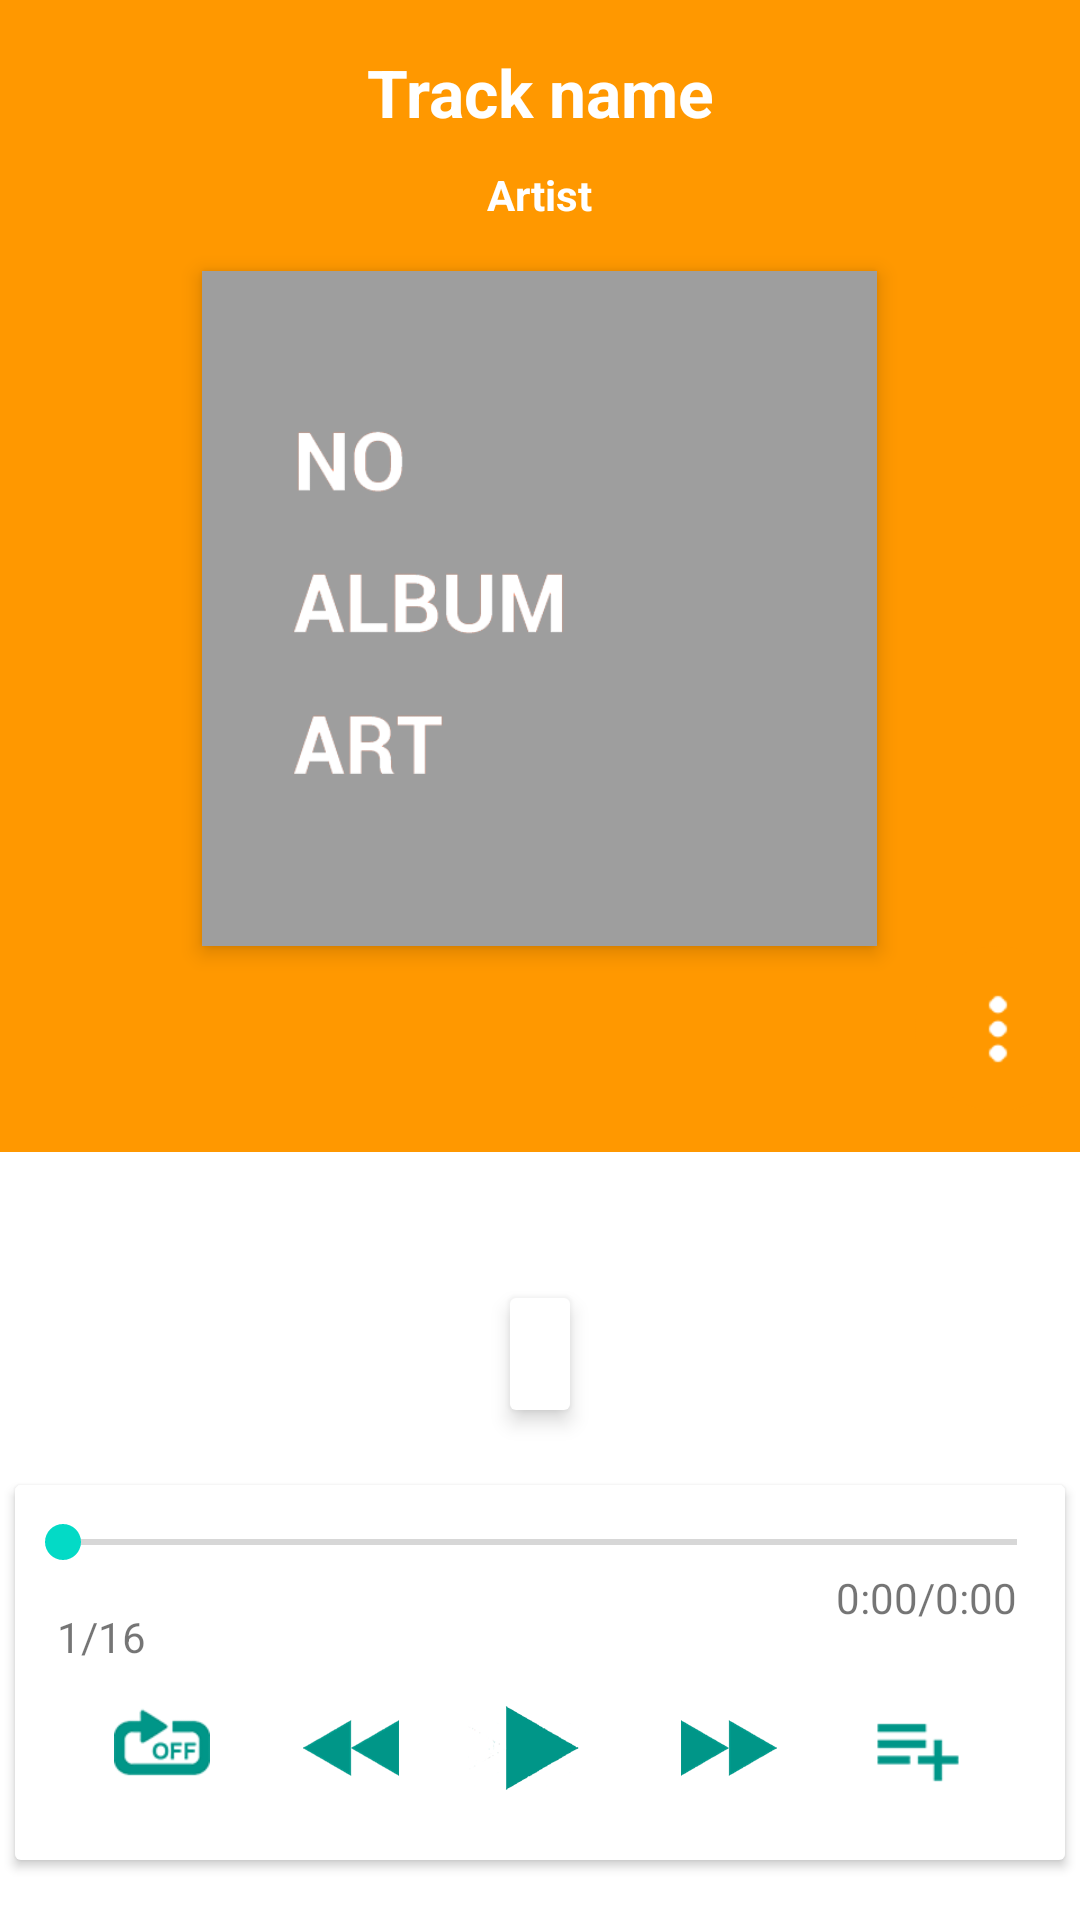

Where to tap for icons on this 1080×1920 app screen, as (x=x, y=y):
add: (x=918, y=1752)
backward: (x=351, y=1748)
forward: (x=729, y=1748)
menu: (x=998, y=1029)
play: (x=536, y=1748)
repeat off: (x=162, y=1742)
